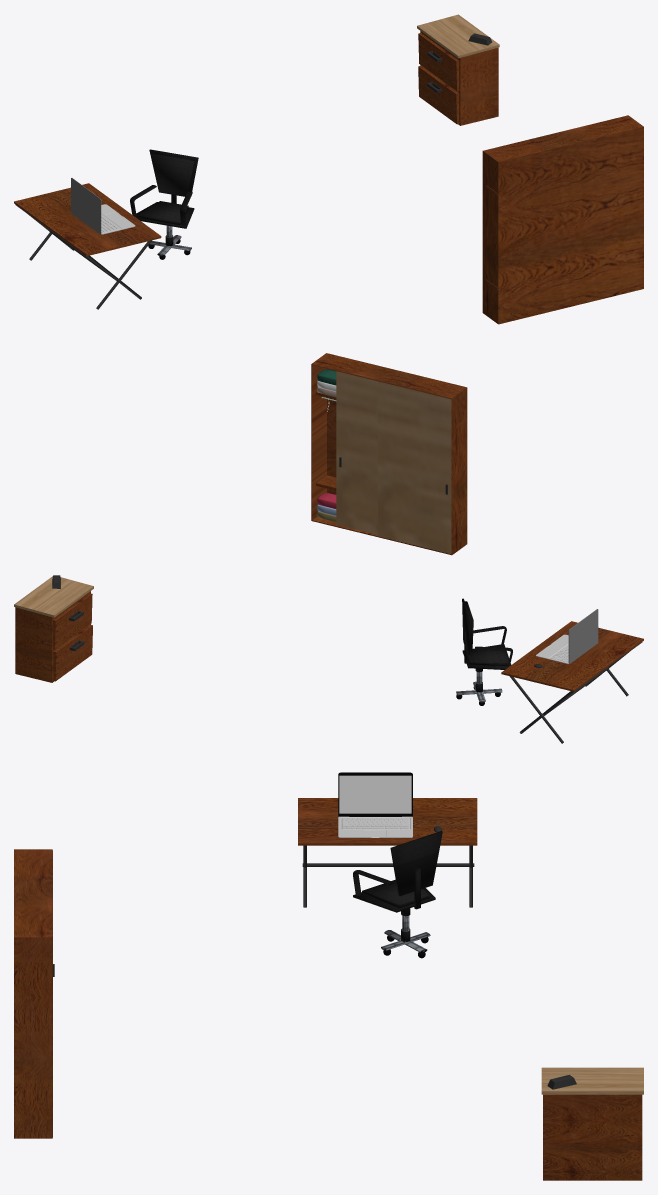
Rendered from Things.fbx.
3 renders of one model, top to bottom at view 1: azimuth 30°, elevation 25°; view 2: azimuth 150°, elevation 25°; view 3: azimuth 270°, elevation 25°, orthographic. The views are drawn at different scales.
Visible parts, largest first — view 1: Wardrobe, TableTop, Chair, DrawerBody, DrawerTop, Drawer2, Drawer, Screen, LapTop; view 2: WardrobeDoor2, Wardrobe, WardrobeDoor, TableTop, DrawerBody, Chair, DrawerTop, Drawer2, Drawer, Screen, LapTop; view 3: Wardrobe, DrawerBody, TableTop, Chair, Screen, DrawerTop, LapTop.
Boxes of the visible parts, <box> form: Wardrobe: <box>482,115,643,324</box>; TableTop: <box>14,183,161,256</box>; Chair: <box>130,149,198,259</box>; DrawerBody: <box>420,31,498,125</box>; DrawerTop: <box>417,14,499,58</box>; Drawer2: <box>418,65,459,124</box>; Drawer: <box>418,33,459,91</box>; Screen: <box>71,178,101,234</box>; LapTop: <box>101,204,135,234</box>; WardrobeDoor2: <box>378,381,451,553</box>; Wardrobe: <box>311,353,467,555</box>; WardrobeDoor: <box>336,371,377,534</box>; TableTop: <box>501,621,643,691</box>; DrawerBody: <box>15,591,90,682</box>; Chair: <box>456,598,512,705</box>; DrawerTop: <box>14,576,93,617</box>; Drawer2: <box>53,624,92,681</box>; Drawer: <box>53,593,92,649</box>; Screen: <box>568,609,598,663</box>; LapTop: <box>536,634,568,663</box>; Wardrobe: <box>14,849,52,1138</box>; DrawerBody: <box>543,1094,642,1180</box>; TableTop: <box>298,798,477,845</box>; Chair: <box>353,831,442,958</box>; Screen: <box>338,772,412,816</box>; DrawerTop: <box>541,1067,643,1094</box>; LapTop: <box>338,816,412,837</box>.
Size of the model in its own units: 2671 by 820 by 2297.
